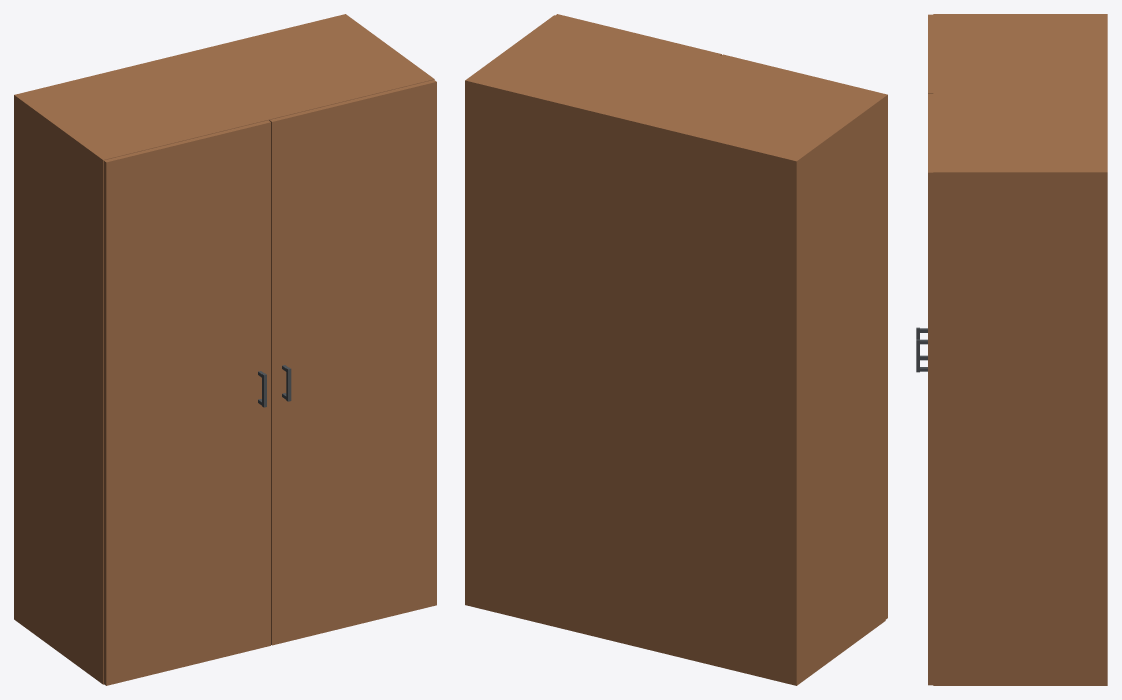
3 renders of one model, left to right at view 1: azimuth 30°, elevation 25°; view 2: azimuth 150°, elevation 25°; view 3: azimuth 270°, elevation 25°, orthographic. The views are drawn at different scales.
Visible parts, largest first — view 1: panel_left, panel_right, side_left, top; view 2: back, side_left, top, side_right, panel_left, bottom; view 3: side_right, top, panel_right, side_left, panel_left.
Part boxes in pixels (x1,y1,x2,y2): panel_left: [103, 120, 270, 685]; panel_right: [269, 80, 436, 645]; side_left: [14, 94, 107, 684]; top: [19, 15, 429, 159]; back: [469, 86, 791, 679]; side_left: [792, 95, 885, 685]; top: [469, 16, 880, 164]; side_right: [465, 15, 558, 605]; panel_left: [721, 54, 887, 619]; bottom: [469, 601, 791, 684]; side_right: [933, 170, 1107, 685]; top: [933, 16, 1107, 170]; panel_right: [928, 94, 933, 685]; side_left: [933, 14, 1107, 16]; panel_left: [928, 14, 933, 93].
Bounding box in the file's own units: 1.29 × 1.95 × 0.658.
